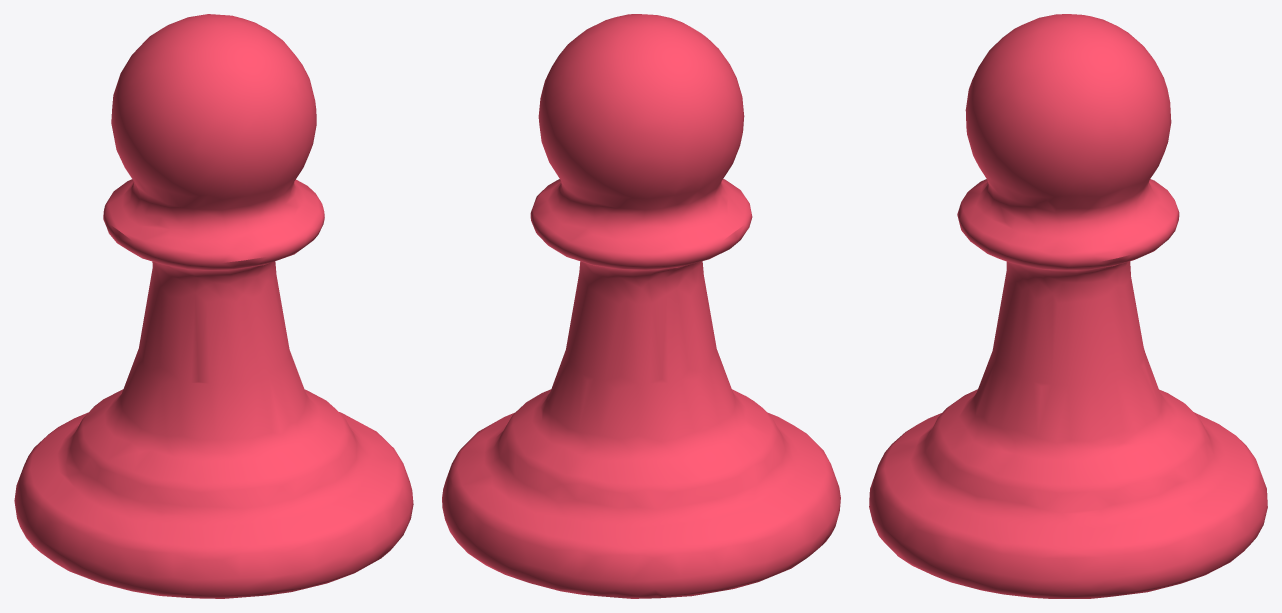
The model's file is pawn-low.glb.
The picture shows the model from 3 angles, left to right: view 1: azimuth 30°, elevation 25°; view 2: azimuth 150°, elevation 25°; view 3: azimuth 270°, elevation 25°; orthographic projection.
Visible parts, largest first — view 1: pawn-low; view 2: pawn-low; view 3: pawn-low.
Boxes of the visible parts, bbox=[...] form: pawn-low: bbox=[14, 14, 413, 598]; pawn-low: bbox=[442, 14, 840, 598]; pawn-low: bbox=[869, 14, 1267, 598].
Bounding box in the file's own units: 0.7349 × 1.01 × 0.7345.
